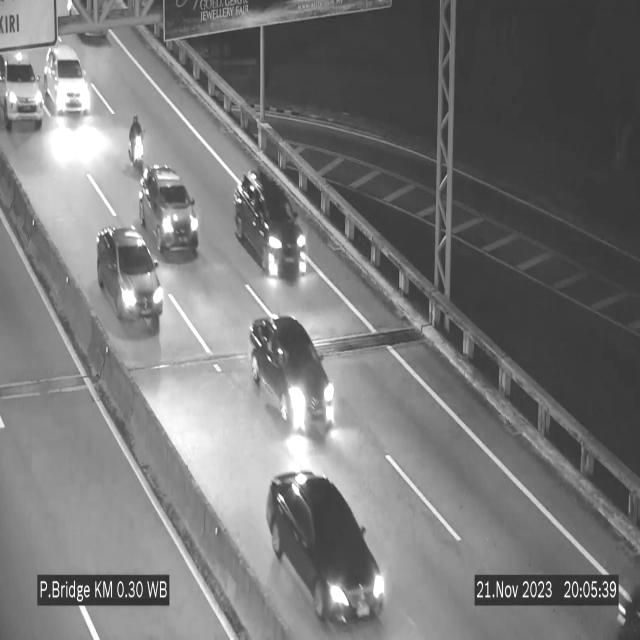Car: (267, 470, 387, 630), (252, 310, 338, 444), (236, 171, 310, 286), (97, 228, 163, 332), (139, 163, 199, 255), (0, 55, 47, 141), (42, 42, 90, 124)
Motorcycle: (125, 112, 152, 180)
